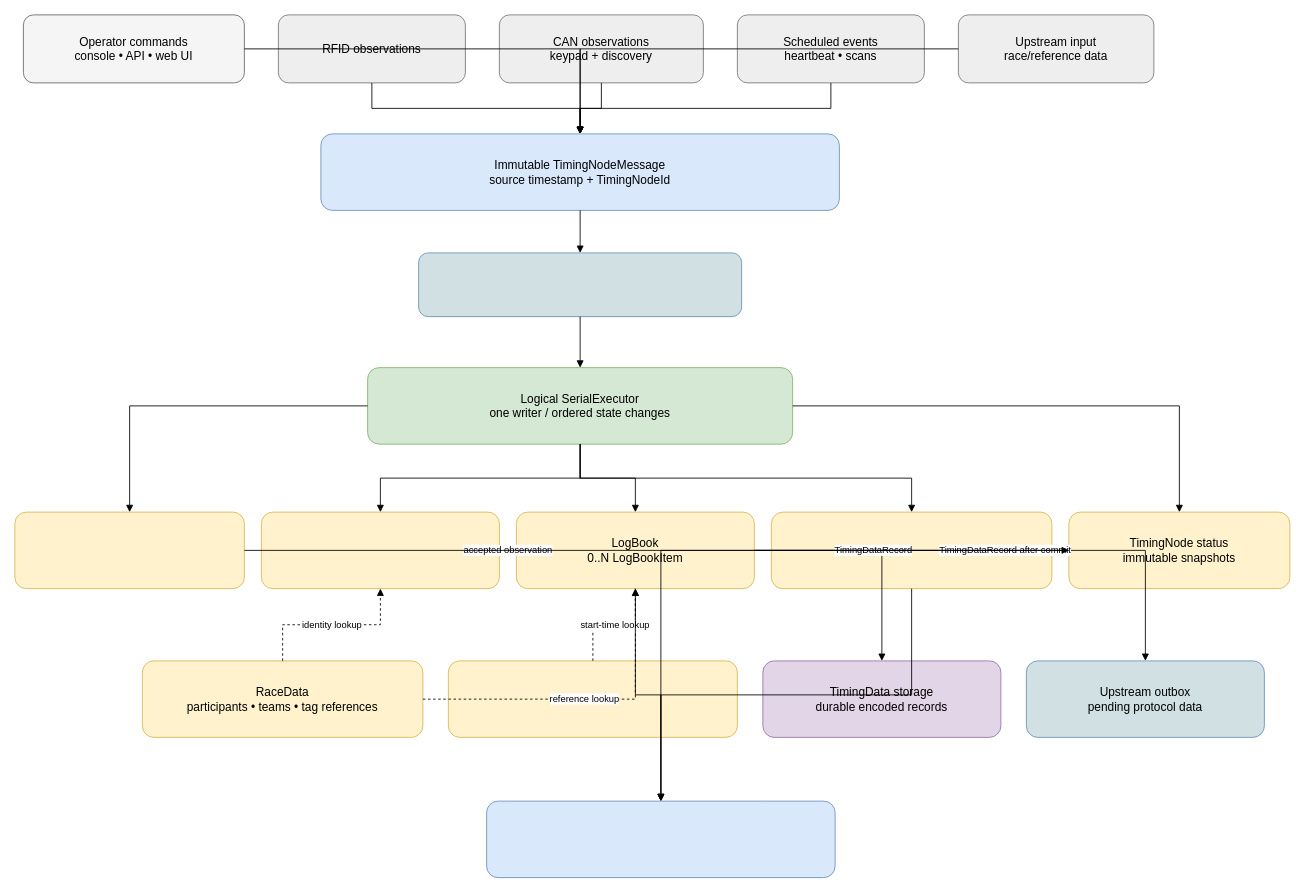
Some shapes in this 1305 by 893 pixel diagram are drawn without their labels. Each missing label, with the box of its shape:
Per-TimingNode ingress queue: (418, 252, 742, 317)
PrepareTeamRegistry teams to prepare + internal history: (771, 511, 1052, 589)
StageStartTimeRegistry local stage start-time reference: (448, 660, 737, 737)
TagProcessor RFID/tag observation processing: (261, 511, 499, 589)
TimingNode coordinator lifecycle + command orchestration: (14, 511, 244, 589)
UI / WebSocket events status + registrations + prepare teams: (486, 800, 835, 878)
